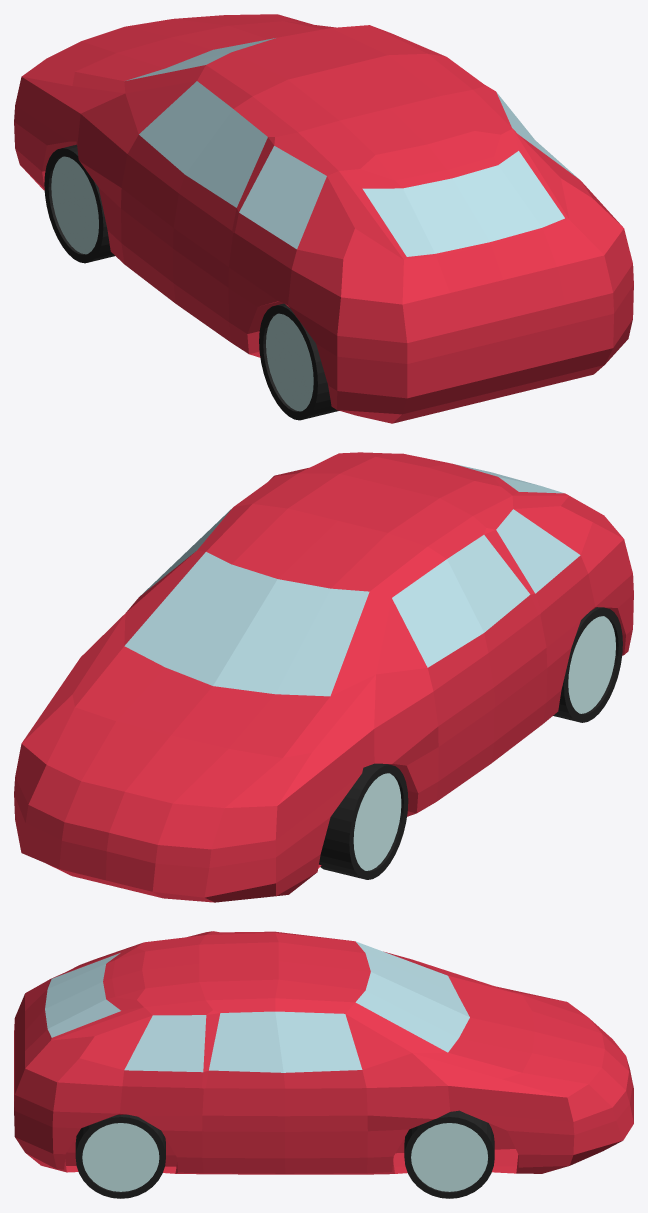
The model's file is flatcar.fbx.
The picture shows the model from 3 angles, top to bottom: view 1: azimuth 30°, elevation 25°; view 2: azimuth 150°, elevation 25°; view 3: azimuth 270°, elevation 25°; orthographic projection. The views are drawn at different scales.
Parts seen in each view (by area): view 1: Flat; view 2: Flat; view 3: Flat.
Boxes of the visible parts, x1=… form: Flat: x1=14, y1=14, x2=633, y2=423; Flat: x1=14, y1=452, x2=633, y2=902; Flat: x1=14, y1=931, x2=633, y2=1198.
Size of the model in its own units: 371 by 809 by 260.
